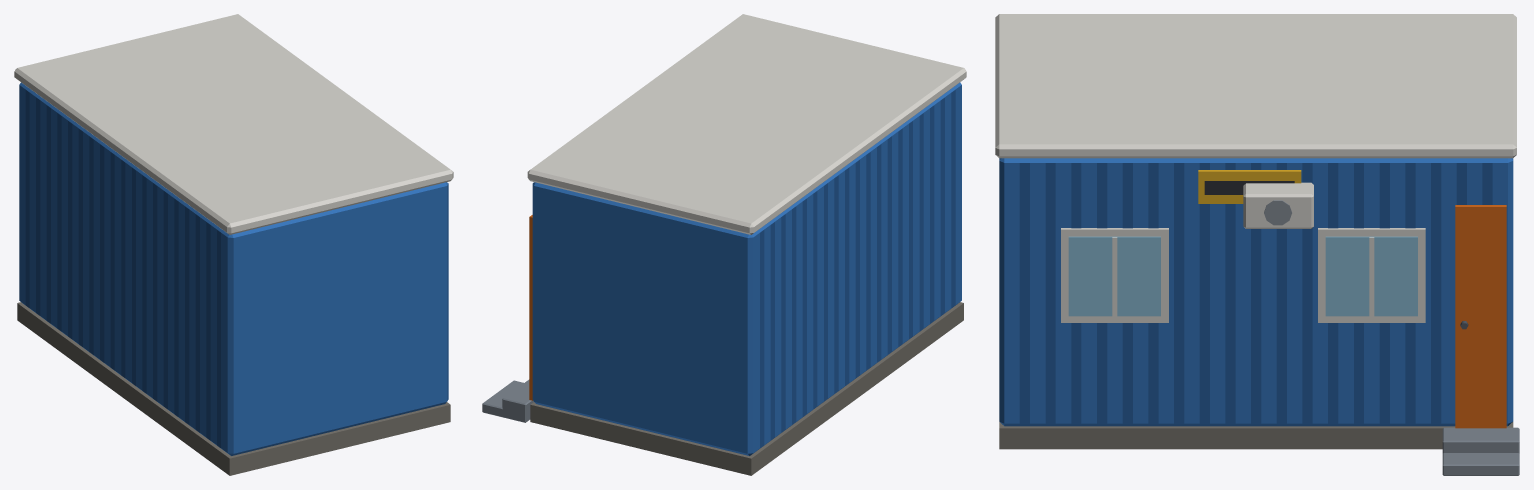
File: site-deco1.glb
3 renders of one model, left to right at view 1: azimuth 30°, elevation 25°; view 2: azimuth 150°, elevation 25°; view 3: azimuth 270°, elevation 25°, orthographic. The views are drawn at different scales.
Parts seen in each view (by area): view 1: site-deco1; view 2: site-deco1; view 3: site-deco1.
Boxes of the visible parts, <box> form: site-deco1: <box>14,14,453,475</box>; site-deco1: <box>482,14,966,475</box>; site-deco1: <box>995,14,1519,475</box>.
Bounding box in the file's own units: 2.93 × 2.62 × 4.08.
